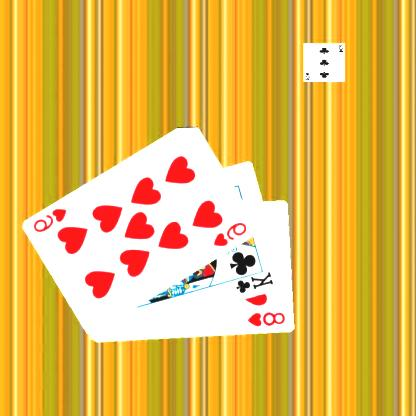8H: (247, 310, 288, 328)
9H: (213, 220, 250, 248), (32, 206, 70, 233)
KC: (229, 267, 276, 295)
